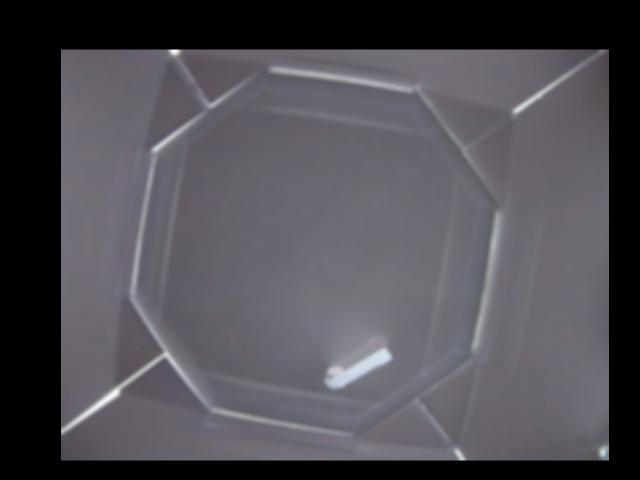China: (323, 338, 391, 387)
